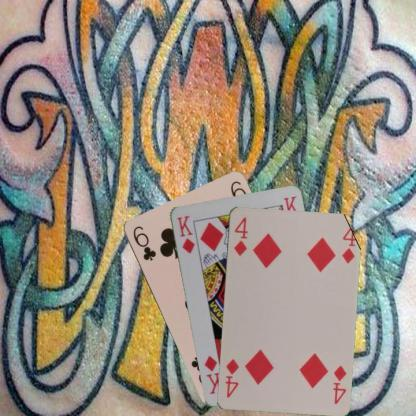4d: (231, 214, 249, 257), (330, 362, 348, 405)
6c: (130, 223, 157, 262)
Kd: (174, 212, 196, 254)
